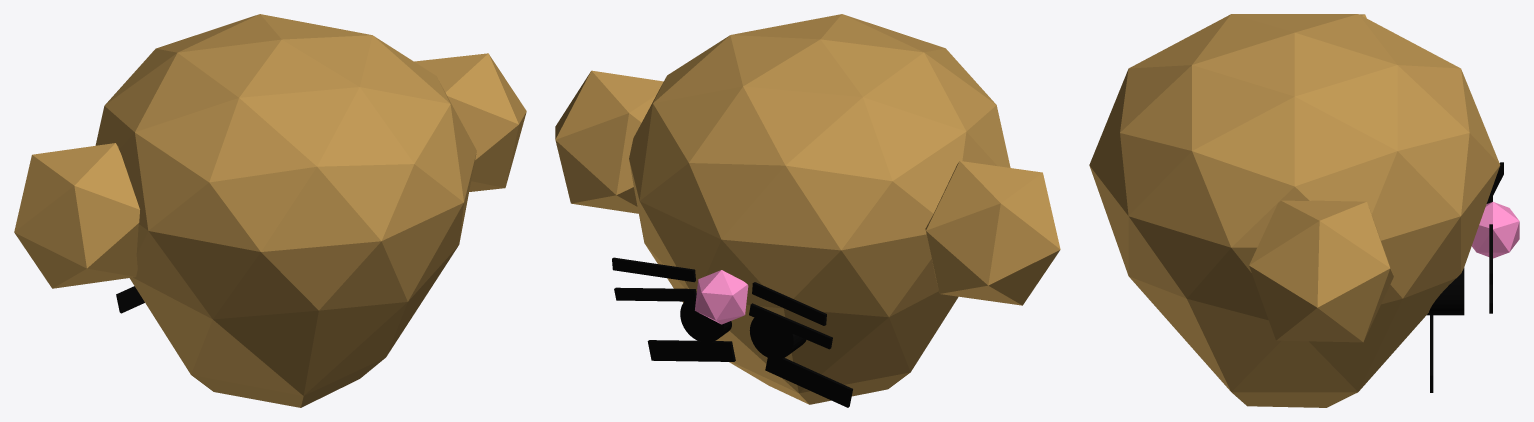
File: moleangry.fbx
The picture shows the model from 3 angles, left to right: view 1: azimuth 30°, elevation 25°; view 2: azimuth 150°, elevation 25°; view 3: azimuth 270°, elevation 25°; orthographic projection. The views are drawn at different scales.
Visible parts, largest first — view 1: Icosphere, Icosphere.002, Icosphere.003, Cube.005; view 2: Icosphere, Icosphere.002, Icosphere.003, Icosphere.001, Cube.004, Cube.005, Cylinder.001, Cylinder, Cube.002, Cube.001, Cube, Cube.003; view 3: Icosphere, Icosphere.003, Icosphere.001, Cylinder.
Part boxes in pixels (x1,y1,x2,y2): Icosphere: [95, 14, 476, 407]; Icosphere.002: [14, 143, 139, 288]; Icosphere.003: [414, 53, 526, 191]; Cube.005: [116, 286, 144, 313]; Icosphere: [629, 14, 1010, 404]; Icosphere.002: [925, 161, 1060, 305]; Icosphere.003: [555, 70, 663, 213]; Icosphere.001: [695, 270, 748, 324]; Cube.004: [647, 340, 735, 361]; Cube.005: [765, 358, 852, 407]; Cylinder.001: [749, 317, 806, 359]; Cylinder: [680, 301, 731, 342]; Cube.002: [749, 303, 832, 349]; Cube.001: [612, 257, 695, 282]; Cube: [614, 287, 696, 301]; Cube.003: [752, 282, 826, 325]; Icosphere: [1089, 14, 1500, 407]; Icosphere.003: [1249, 200, 1393, 342]; Icosphere.001: [1472, 202, 1519, 258]; Cylinder: [1427, 268, 1464, 315].
Bounding box in the file's own units: 1936 × 1289 × 1372.
